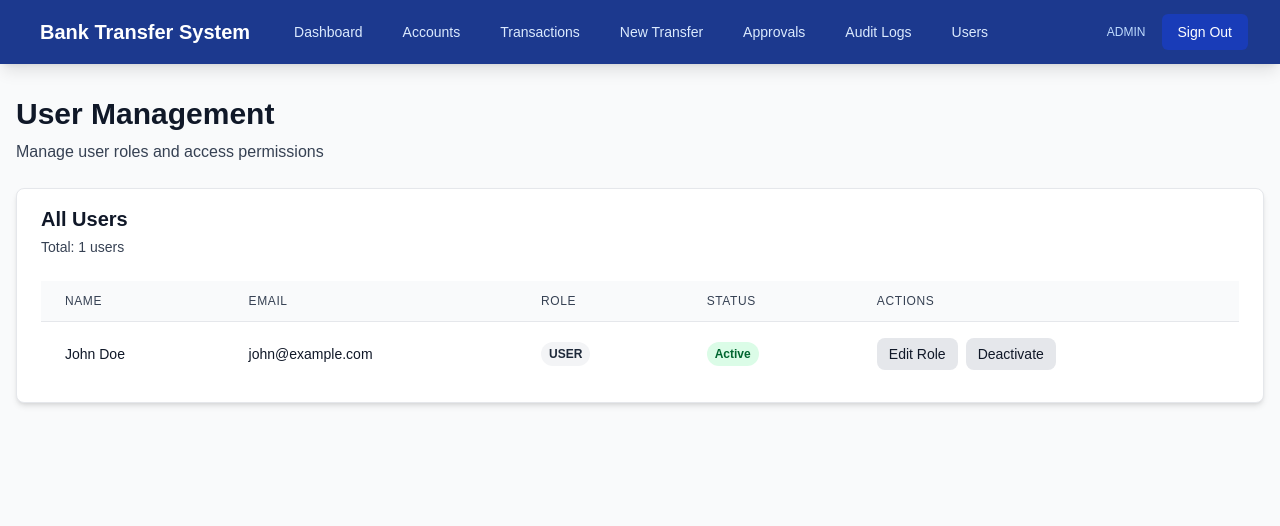
Users Page › handles role update error
The image size is (1280, 526).
Expected: the text "John Doe" is shown, [41,322,225,386]
Click the button "Edit Role". click: x=917, y=354
box: [877,338,958,370]
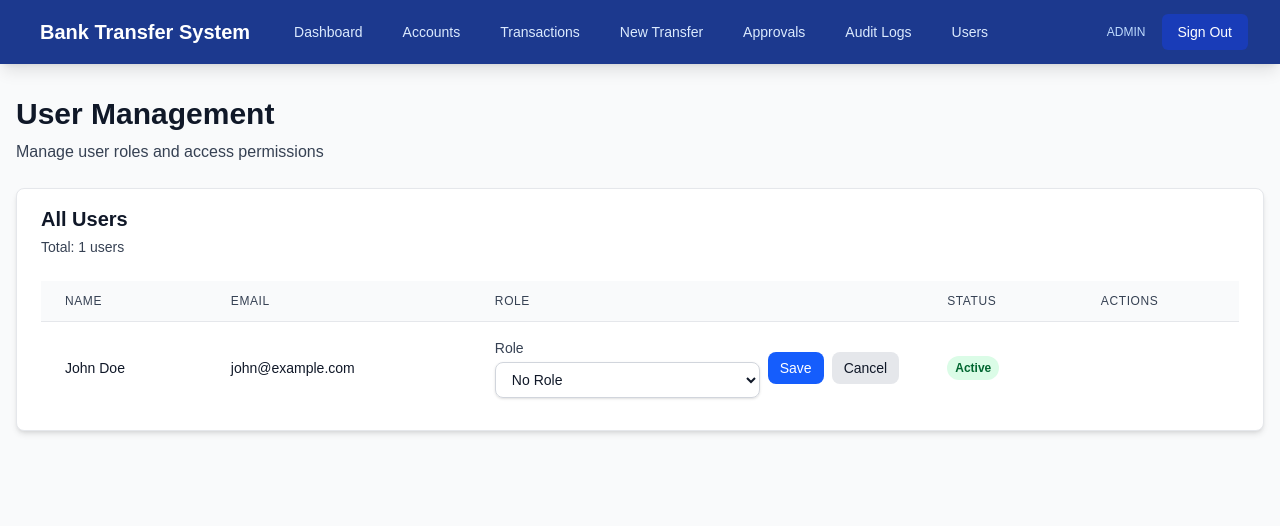
Click the button "Save". click: x=796, y=368
box: [768,352,824,384]
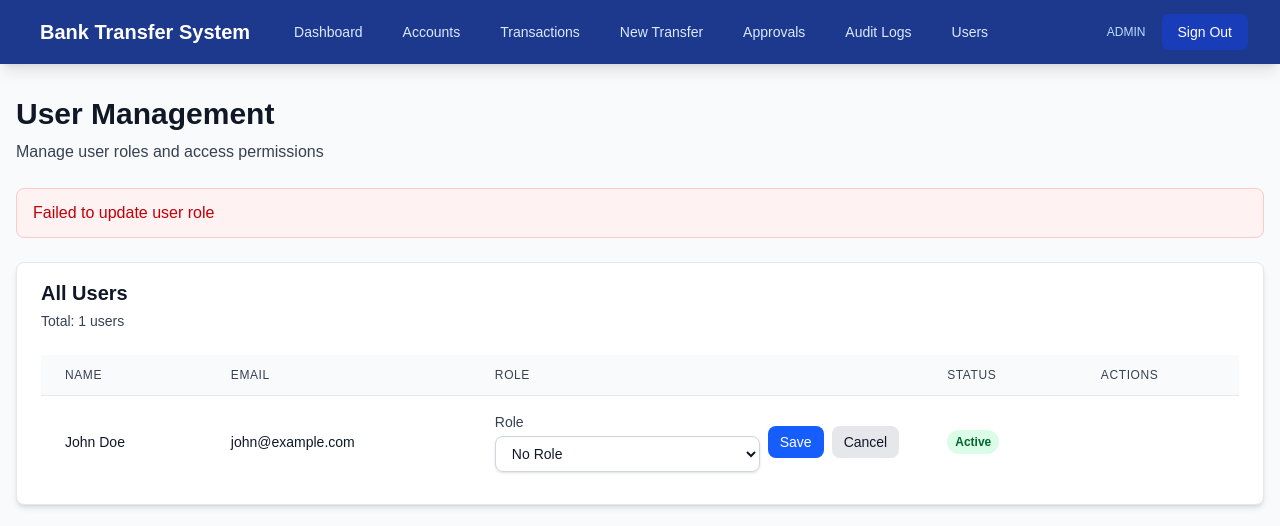
Expected: the text "Failed to update user role" is shown, [16,188,1264,238]
